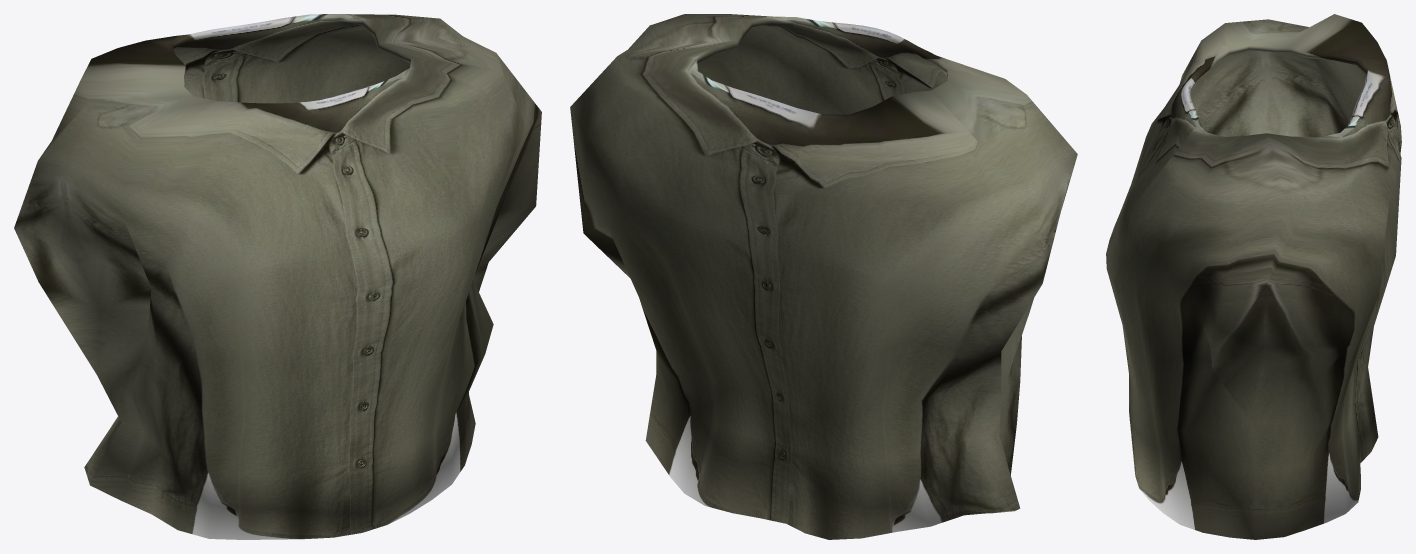
3 views of the same model, side by side, from view 1: azimuth 30°, elevation 25°; view 2: azimuth 150°, elevation 25°; view 3: azimuth 270°, elevation 25° (orthographic). The views are drawn at different scales.
Visible parts, largest first — view 1: garment; view 2: garment; view 3: garment.
Part boxes in pixels (x1,y1,x2,y2): garment: [14, 14, 541, 539]; garment: [570, 14, 1077, 539]; garment: [1106, 14, 1401, 539].
Bounding box in the file's own units: 0.5572 × 0.4663 × 0.3229.
1 material, 1 textured.
